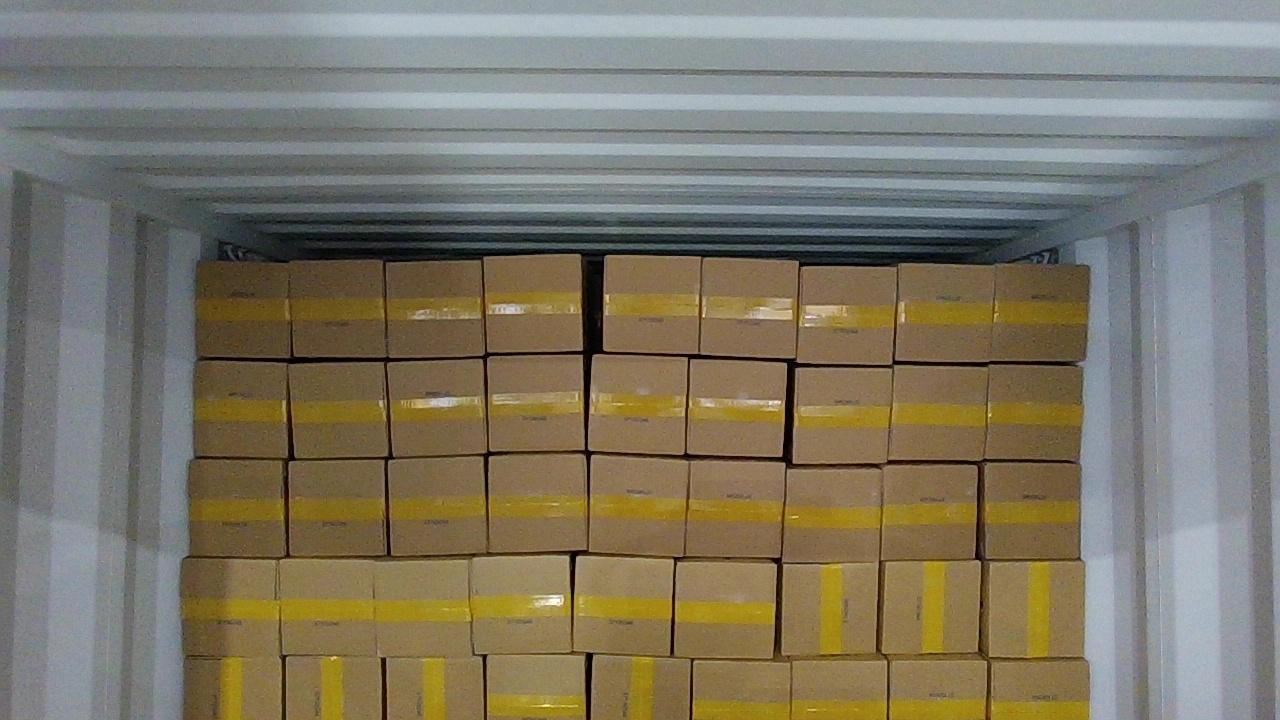carton: (979, 561, 1085, 657), (589, 453, 688, 555), (674, 560, 777, 658), (587, 355, 686, 455), (181, 557, 280, 657), (792, 366, 893, 464), (470, 555, 571, 653), (894, 264, 993, 363), (687, 358, 786, 457), (488, 453, 587, 552), (602, 255, 700, 355), (799, 266, 897, 366), (188, 458, 286, 558), (484, 255, 583, 353), (990, 264, 1089, 362), (486, 354, 585, 452), (387, 359, 486, 457), (389, 456, 487, 555), (574, 555, 672, 654), (374, 558, 472, 657), (979, 462, 1080, 558), (701, 257, 796, 359), (386, 260, 485, 357), (686, 461, 784, 557), (194, 360, 289, 459), (289, 261, 386, 357), (288, 460, 385, 556), (784, 466, 882, 561), (879, 560, 980, 652), (985, 364, 1082, 459), (881, 464, 978, 559), (196, 261, 290, 359), (888, 364, 986, 458), (289, 363, 387, 457), (279, 560, 374, 656), (782, 564, 878, 656), (589, 654, 690, 719), (486, 654, 585, 719), (888, 655, 987, 719), (184, 656, 283, 719), (988, 658, 1089, 719), (386, 657, 484, 719), (791, 656, 887, 719), (692, 659, 790, 719), (285, 658, 380, 719)
